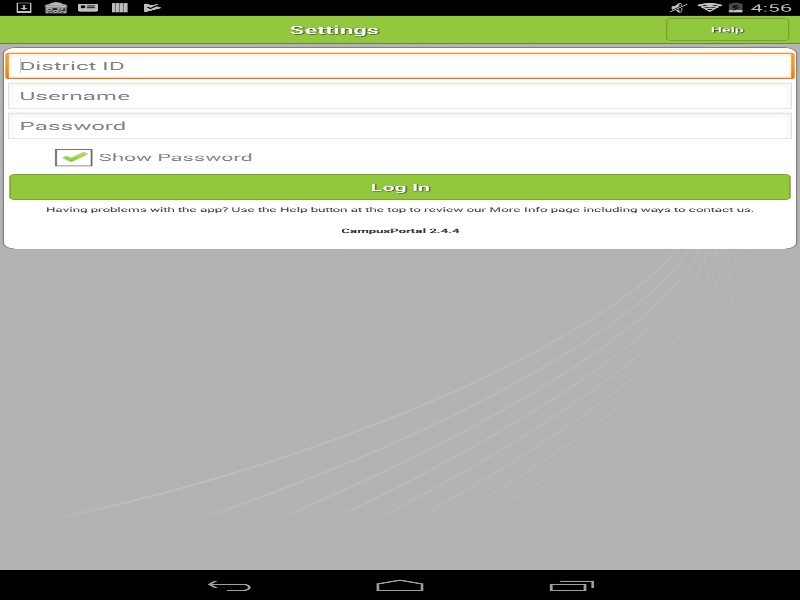Button: (9, 174, 790, 200), (666, 18, 789, 40)
Input: (5, 52, 794, 82), (5, 82, 794, 112), (5, 112, 794, 142)
